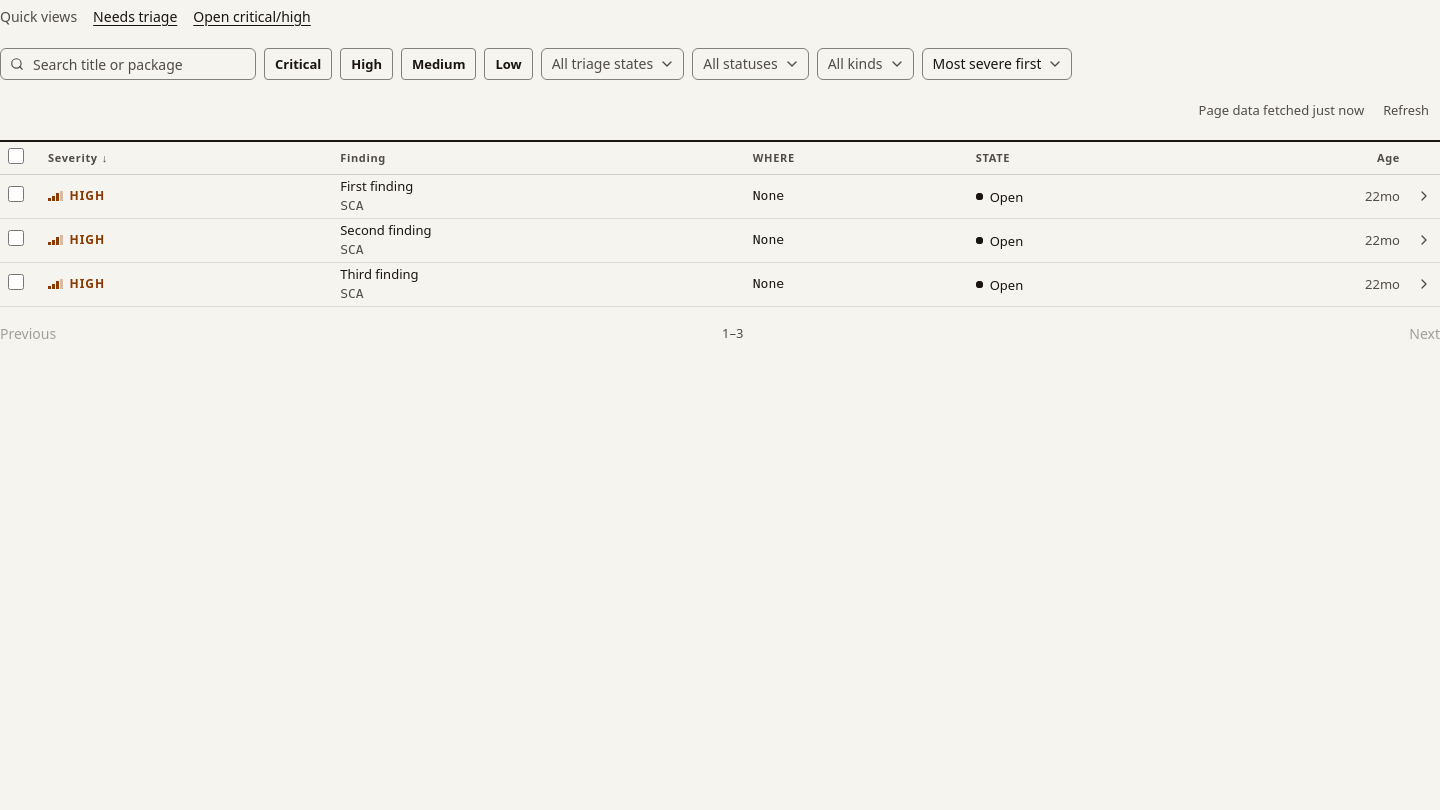
the findings list's selection and bulk actions › applies one decision to everything selected and clears the selection
Click the checkbox named "Select First finding" at point(16, 194), box [8, 186, 24, 202]
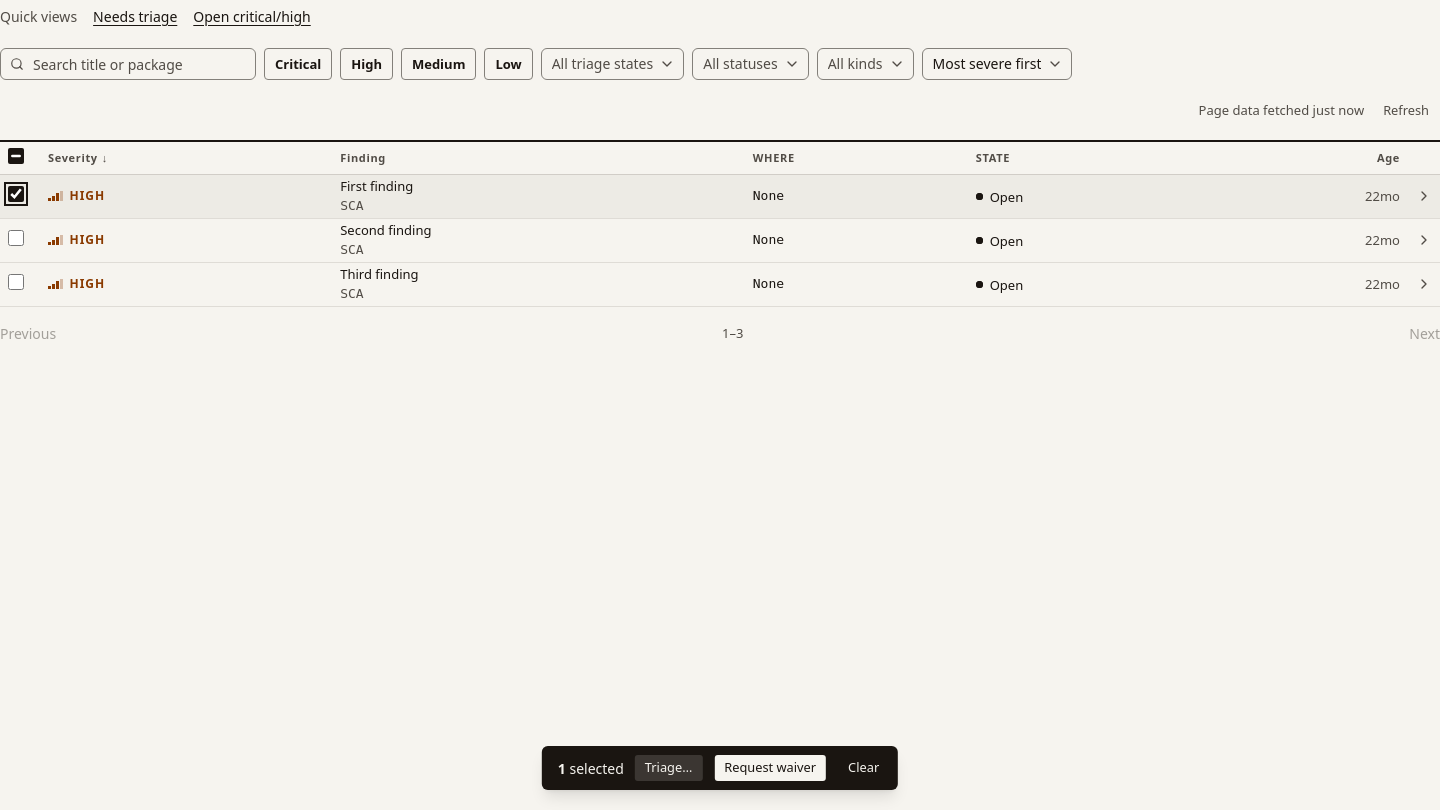
Click the checkbox named "Select Second finding" at point(16, 238), box [8, 230, 24, 246]
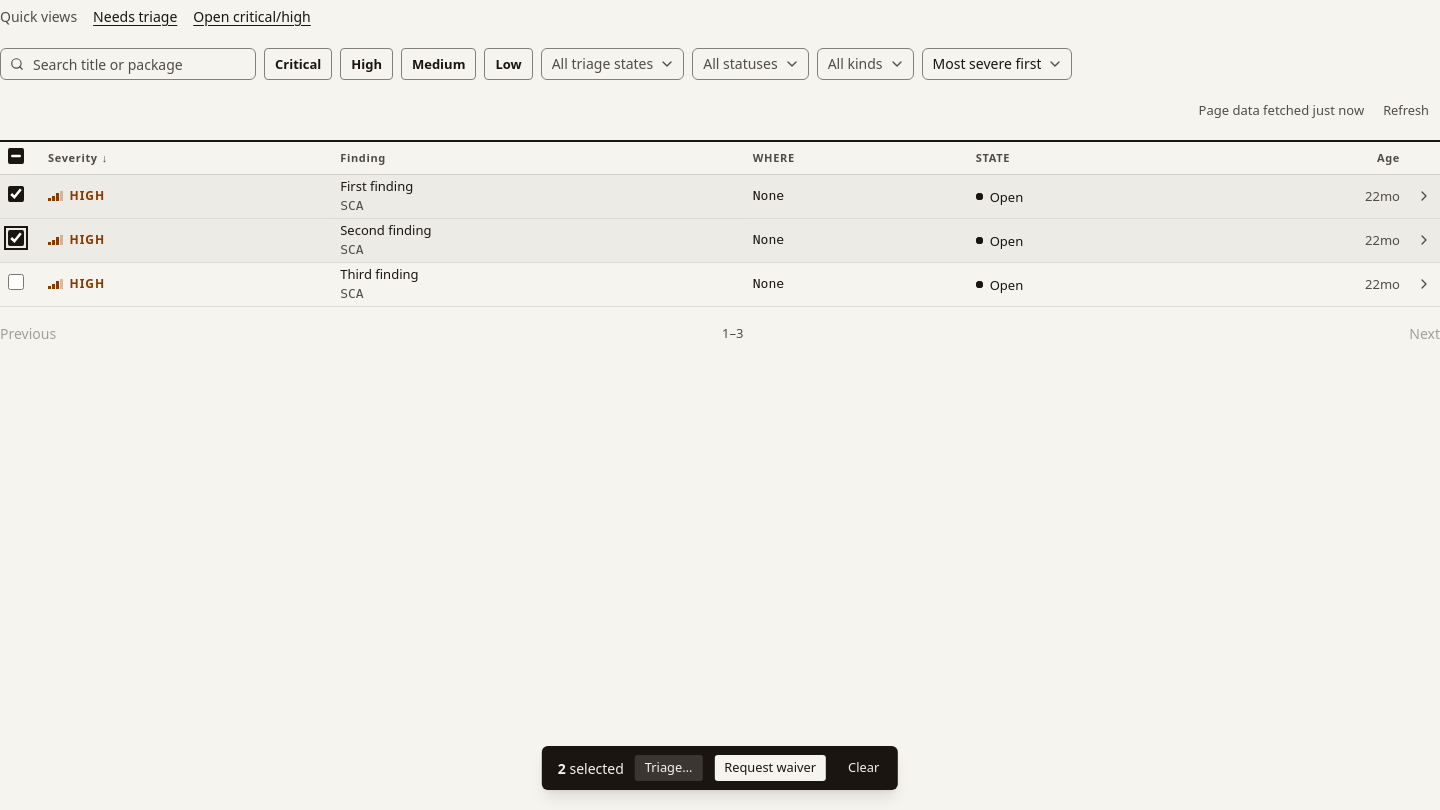
Click the button "Triage…" at point(669, 768), box [634, 754, 703, 782]
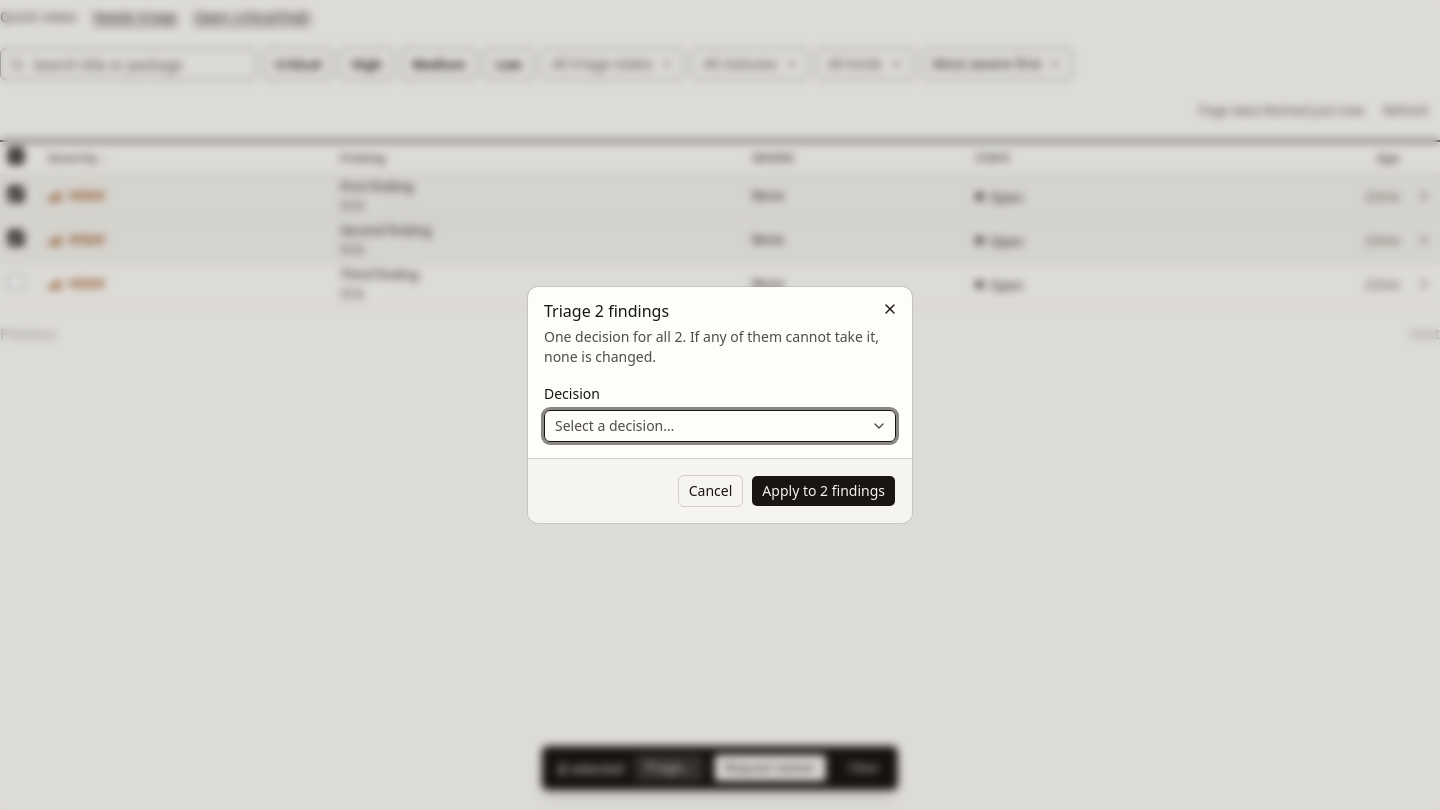
Click the dropdown labelled "decision" at point(615, 426), box [544, 410, 896, 442]
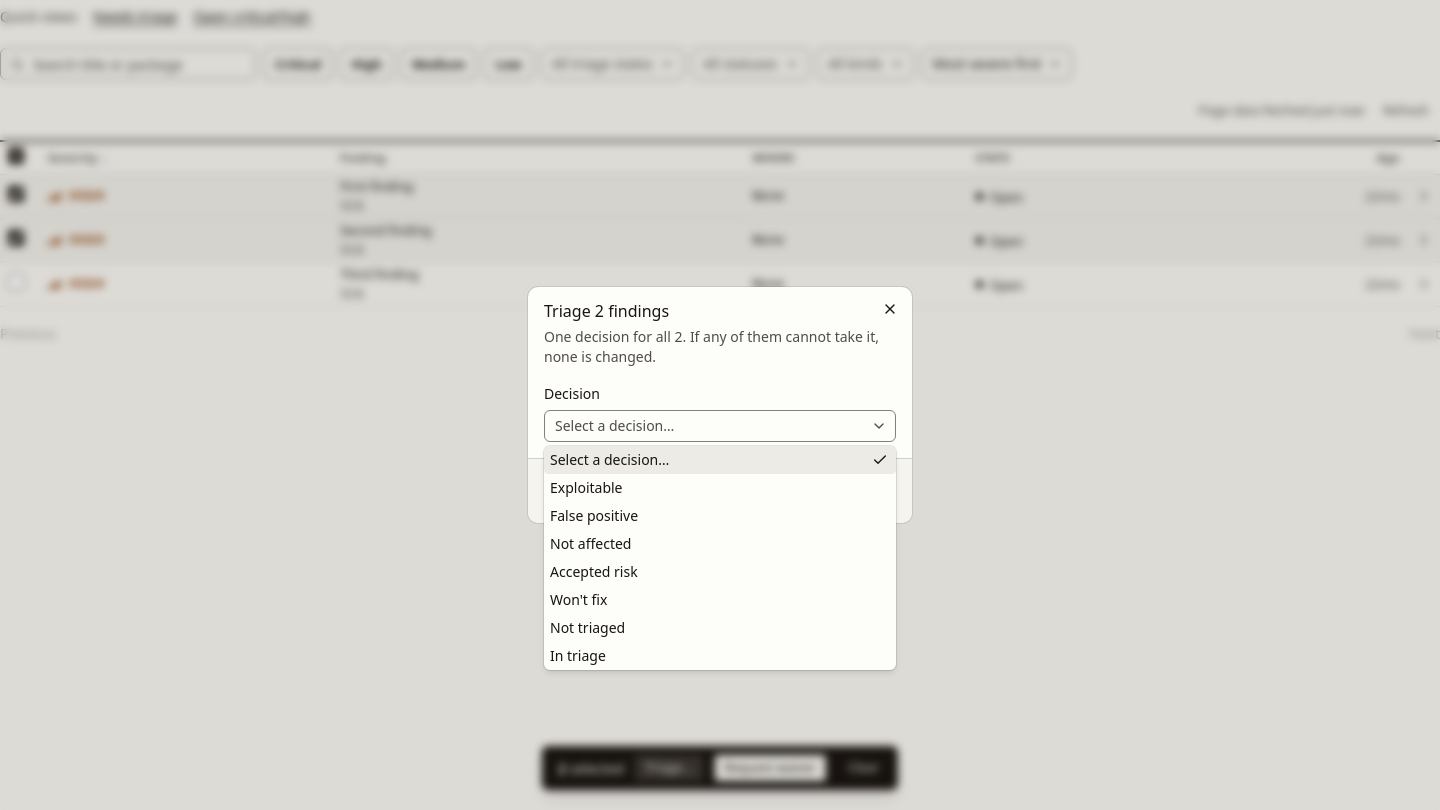
Click the option "Exploitable" at point(586, 488), box [550, 478, 622, 497]
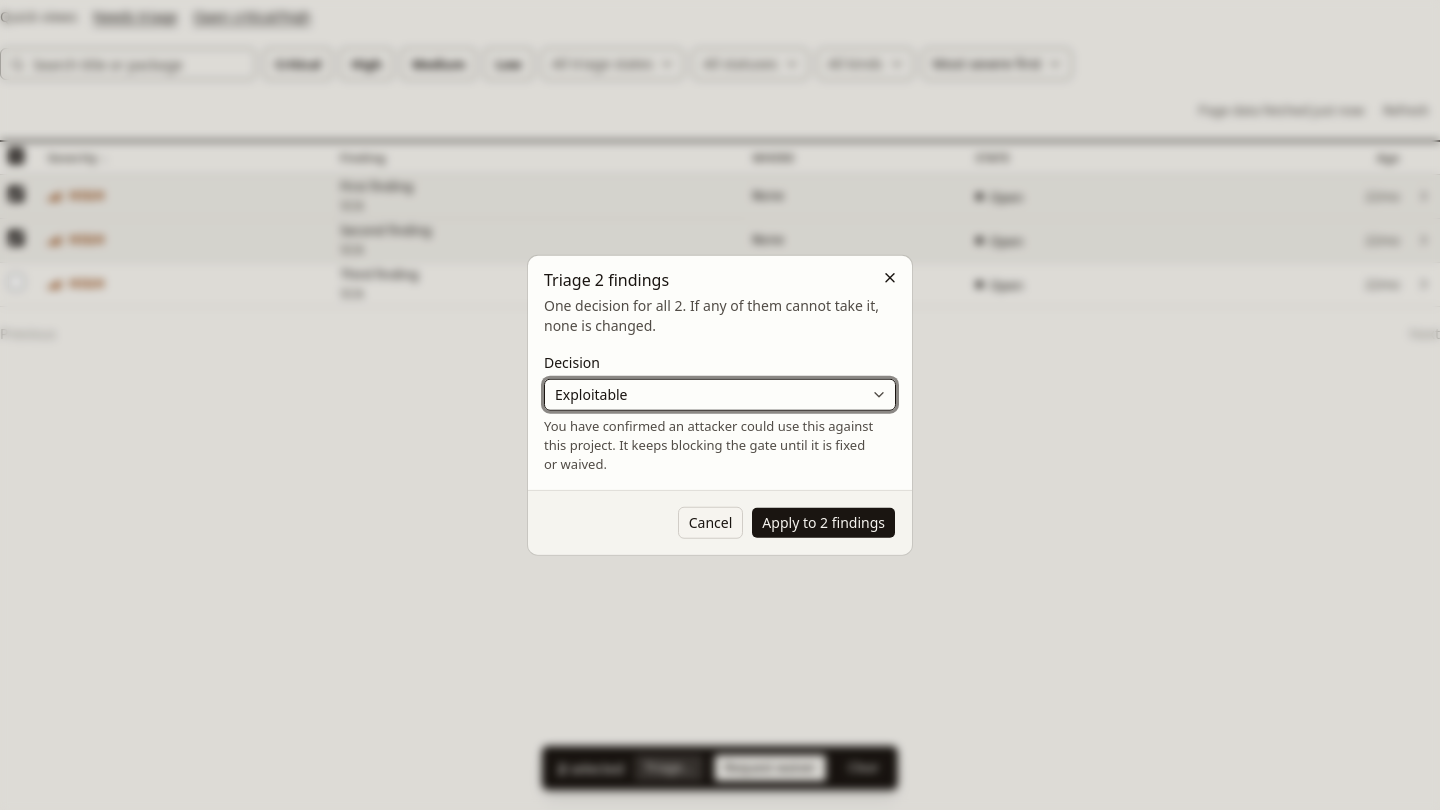
Click the button "Apply to 2 findings" at point(824, 522), box [751, 506, 896, 538]
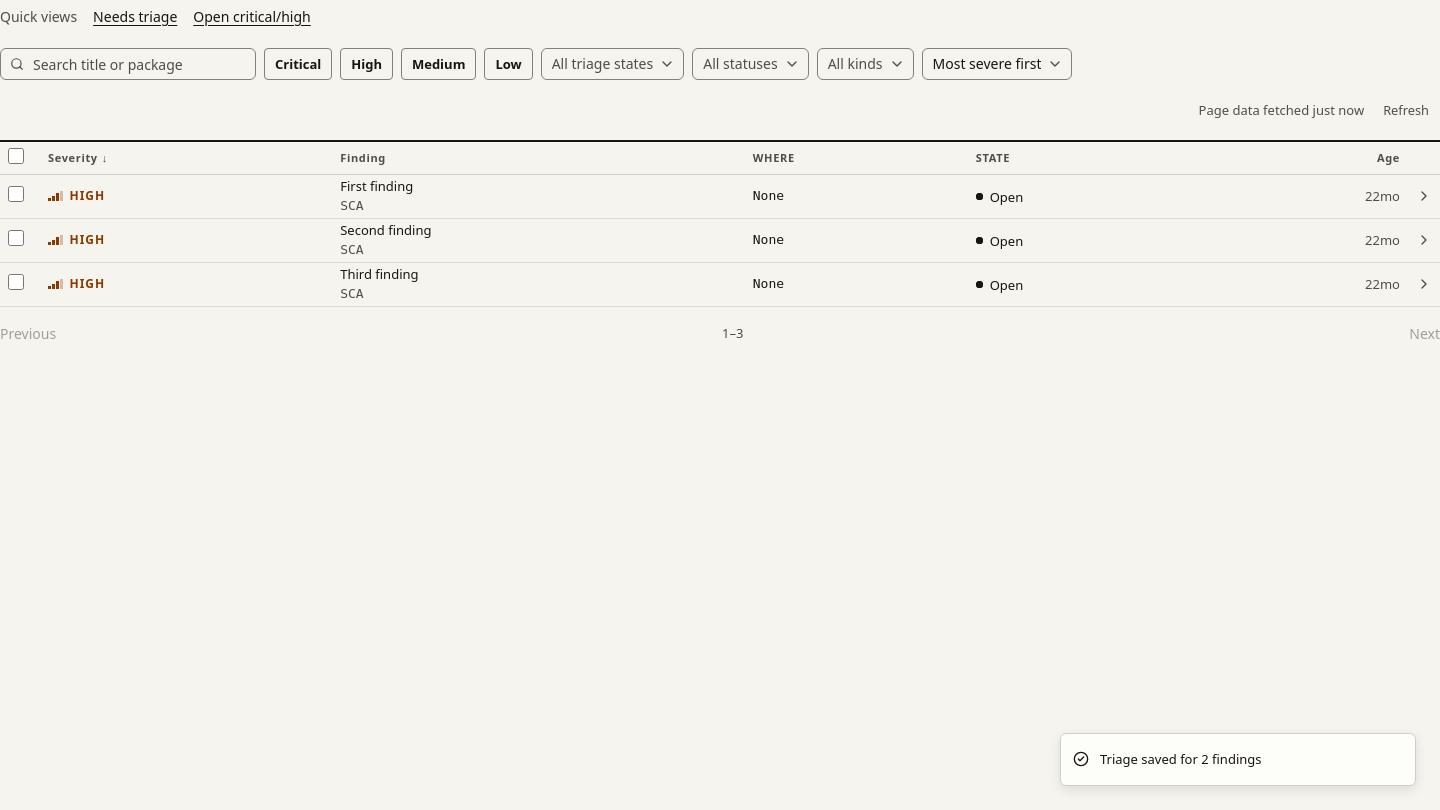
Now the text "Triage saved for 2 findings" is shown, box [1100, 750, 1262, 769]
